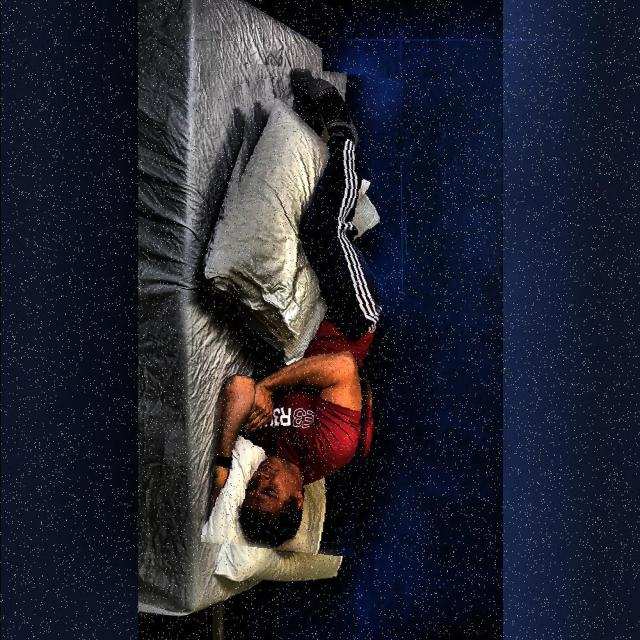Not_Supine: (210, 68, 380, 548)
